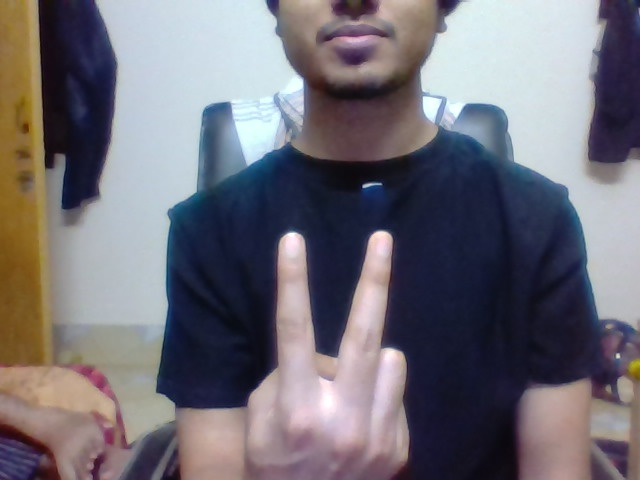V: (273, 229, 397, 378)
